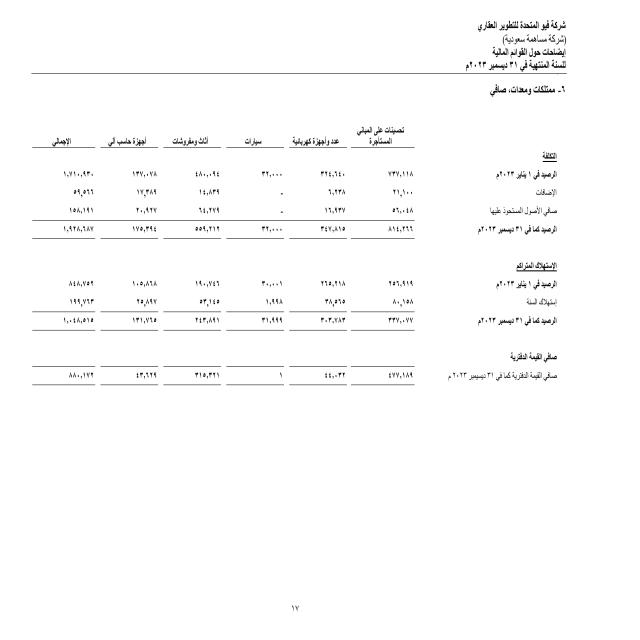notes: (476, 46, 569, 61)
table: (20, 116, 437, 404)
